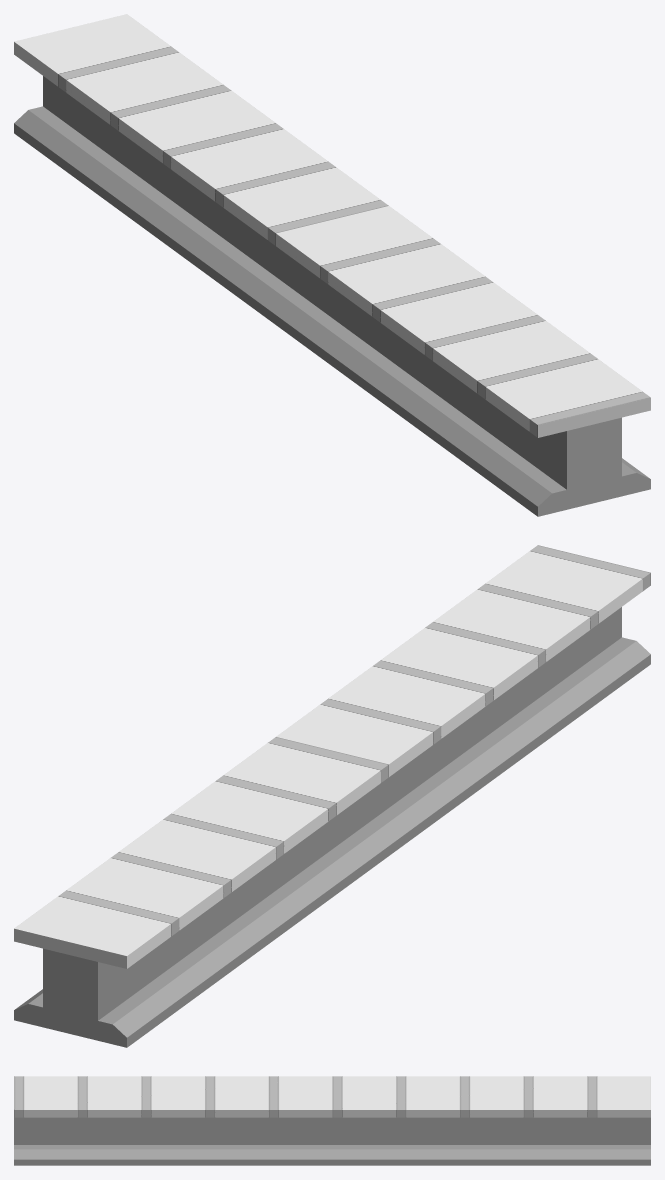
The model's file is mech_corner_1_short.fbx.
The picture shows the model from 3 angles, top to bottom: view 1: azimuth 30°, elevation 25°; view 2: azimuth 150°, elevation 25°; view 3: azimuth 270°, elevation 25°; orthographic projection. The views are drawn at different scales.
Parts seen in each view (by area): view 1: type_3_short; view 2: type_3_short; view 3: type_3_short.
Boxes of the visible parts, box(x1,y1,x2,y2) form: type_3_short: box(14, 14, 650, 516); type_3_short: box(14, 545, 650, 1047); type_3_short: box(14, 1076, 650, 1165).
Bounding box in the file's own units: 49.32 × 38.23 × 396.
